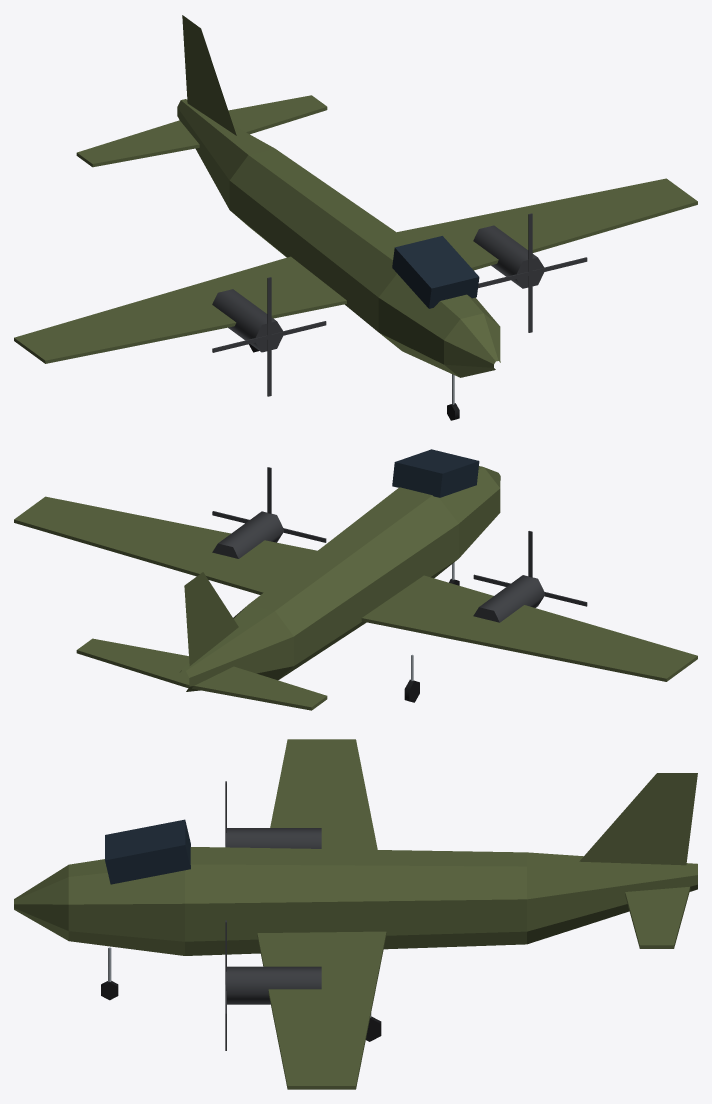
Rendered from veh_air_airliner_a06.glb.
3 renders of one model, top to bottom at view 1: azimuth 30°, elevation 25°; view 2: azimuth 150°, elevation 25°; view 3: azimuth 270°, elevation 25°, orthographic. The views are drawn at different scales.
Visible parts, largest first — view 1: body, propeller_0, propeller_1; view 2: body, propeller_1, propeller_0; view 3: body.
Part boxes in pixels (x1,y1,x2,y2): body: (14, 15, 697, 377); propeller_0: (212, 277, 326, 396); propeller_1: (478, 213, 587, 332); body: (14, 449, 697, 710); propeller_1: (212, 467, 326, 542); propeller_0: (473, 531, 587, 606); body: (14, 739, 697, 1089).
Size of what is drawn, in the model's own units: 24.72 by 7.53 by 20.6.
